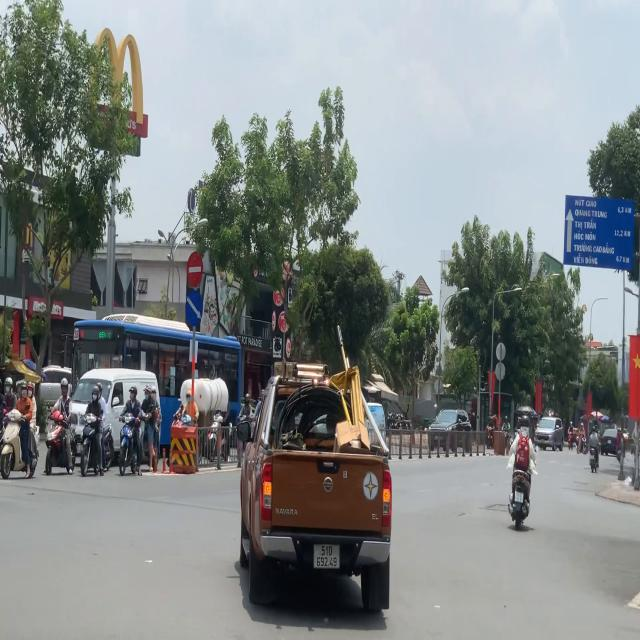Cam nguoc chieu: (186, 251, 204, 289)
Hieu lenh: (185, 290, 203, 326)
